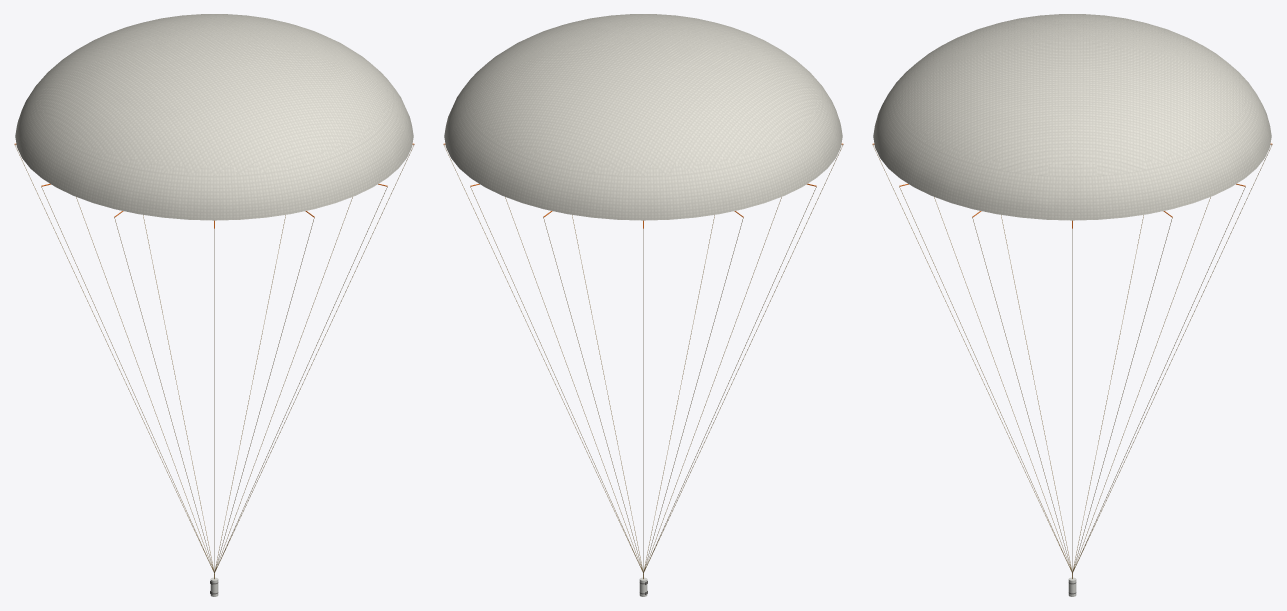
The model's file is stage17_radial_recovery_chute_m_deployed.glb.
The picture shows the model from 3 angles, left to right: view 1: azimuth 30°, elevation 25°; view 2: azimuth 150°, elevation 25°; view 3: azimuth 270°, elevation 25°; orthographic projection.
Parts seen in each view (by area): view 1: canopy, riser_lines; view 2: canopy, riser_lines; view 3: canopy, riser_lines.
Boxes of the visible parts, bbox=[...] form: canopy: bbox=[15, 14, 413, 220]; riser_lines: bbox=[14, 144, 414, 579]; canopy: bbox=[444, 14, 842, 220]; riser_lines: bbox=[443, 144, 843, 579]; canopy: bbox=[873, 14, 1271, 220]; riser_lines: bbox=[872, 144, 1272, 578].
Bounding box in the file's own units: 32.02 × 48.64 × 32.03.
5 materials, 2 textured.
